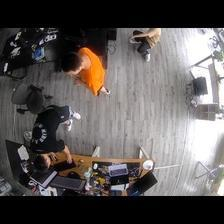fall: (125, 29, 164, 61)
normal: (28, 104, 80, 170), (59, 46, 114, 96)
